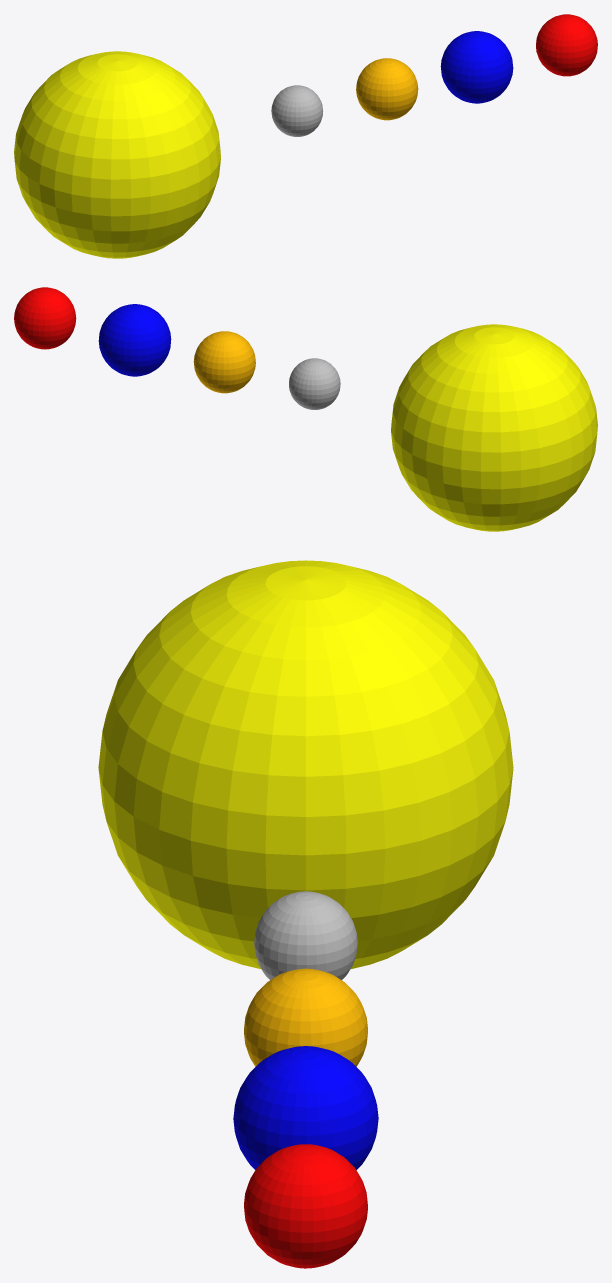
Rendered from solar system.fbx.
3 renders of one model, top to bottom at view 1: azimuth 30°, elevation 25°; view 2: azimuth 150°, elevation 25°; view 3: azimuth 270°, elevation 25°, orthographic. The views are drawn at different scales.
Parts seen in each view (by area): view 1: Sun, Earth, Venus, Mars, Mercury; view 2: Sun, Earth, Venus, Mars, Mercury; view 3: Sun, Earth, Mars, Venus, Mercury.
Boxes of the visible parts, bbox=[...] form: Sun: bbox=[14, 51, 220, 258]; Earth: bbox=[440, 31, 513, 103]; Venus: bbox=[356, 58, 418, 120]; Mars: bbox=[536, 14, 597, 76]; Mercury: bbox=[271, 85, 323, 136]; Sun: bbox=[391, 324, 597, 531]; Earth: bbox=[98, 304, 171, 376]; Venus: bbox=[193, 331, 255, 393]; Mars: bbox=[14, 287, 76, 349]; Mercury: bbox=[289, 358, 340, 409]; Sun: bbox=[98, 560, 513, 968]; Earth: bbox=[233, 1046, 378, 1169]; Mars: bbox=[244, 1144, 367, 1268]; Venus: bbox=[244, 968, 367, 1066]; Mercury: bbox=[254, 891, 357, 980].
Size of the model in its own units: 1260 by 400 by 400.
